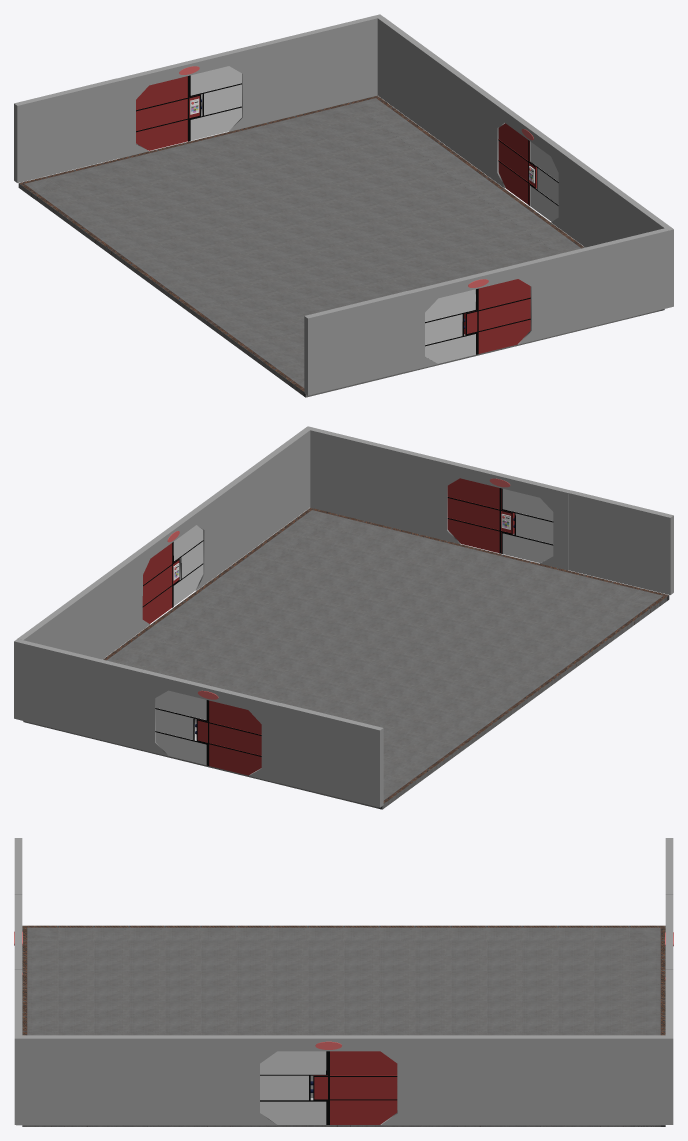
Rendered from sala_4.fbx.
The picture shows the model from 3 angles, top to bottom: view 1: azimuth 30°, elevation 25°; view 2: azimuth 150°, elevation 25°; view 3: azimuth 270°, elevation 25°; orthographic projection. The views are drawn at different scales.
Parts seen in each view (by area): view 1: suelo_sala4, pared_puerta (×3), pared94, pared95, puerta_roja (×3), pared91, pared92, pared96, puerta_chiquita (×3), pared93; view 2: suelo_sala4, pared_puerta (×3), pared95, pared94, puerta_roja (×3), pared96, pared92, pared93, puerta_chiquita (×3), pared91; view 3: suelo_sala4, pared91, pared93, pared_puerta (×3), puerta_roja, puerta_chiquita, pared95, pared94, pared92, pared96.
Part boxes in pixels (left/top/right/bottom): suelo_sala4: left=18, top=95, right=664, bottom=397; pared_puerta (×3): left=117, top=45, right=572, bottom=370; pared94: left=545, top=228, right=673, bottom=337; pared95: left=254, top=14, right=382, bottom=124; puerta_roja (×3): left=136, top=76, right=536, bottom=354; pared91: left=377, top=17, right=493, bottom=175; pared92: left=304, top=291, right=410, bottom=395; pared96: left=14, top=78, right=119, bottom=182; puerta_chiquita (×3): left=189, top=66, right=558, bottom=363; pared93: left=567, top=155, right=672, bottom=247; suelo_sala4: left=23, top=507, right=669, bottom=809; pared_puerta (×3): left=128, top=457, right=570, bottom=782; pared95: left=14, top=639, right=143, bottom=749; pared94: left=307, top=426, right=433, bottom=536; puerta_roja (×3): left=142, top=478, right=514, bottom=775; pared96: left=277, top=703, right=383, bottom=807; pared92: left=568, top=490, right=673, bottom=594; pared93: left=207, top=426, right=312, bottom=578; puerta_chiquita (×3): left=155, top=488, right=553, bottom=765; pared91: left=17, top=558, right=133, bottom=659; suelo_sala4: left=22, top=925, right=665, bottom=1126; pared91: left=418, top=1035, right=665, bottom=1125; pared93: left=16, top=1035, right=240, bottom=1125; pared_puerta (×3): left=14, top=894, right=673, bottom=1125; puerta_roja: left=313, top=1051, right=397, bottom=1124; puerta_chiquita: left=260, top=1051, right=327, bottom=1124; pared95: left=665, top=969, right=673, bottom=1124; pared94: left=14, top=969, right=22, bottom=1124; pared92: left=14, top=838, right=22, bottom=894; pared96: left=665, top=838, right=673, bottom=894.
Bounding box in the file's own units: 0.4009 × 0.0857 × 0.5575.
